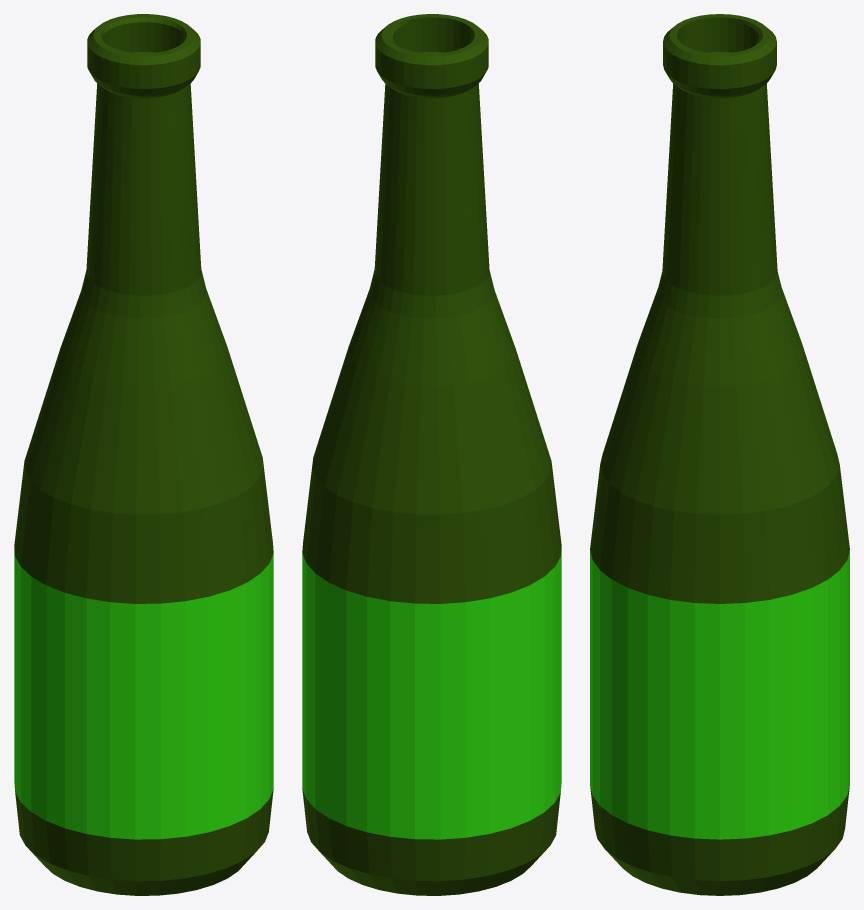
File: champange.fbx
3 renders of one model, left to right at view 1: azimuth 30°, elevation 25°; view 2: azimuth 150°, elevation 25°; view 3: azimuth 270°, elevation 25°, orthographic.
Visible parts, largest first — view 1: Cylinder; view 2: Cylinder; view 3: Cylinder.
Part boxes in pixels (<box>): Cylinder: <box>14,14,273,895</box>; Cylinder: <box>302,14,561,895</box>; Cylinder: <box>590,14,849,895</box>.
Size of the model in its own units: 122 by 430 by 122.
